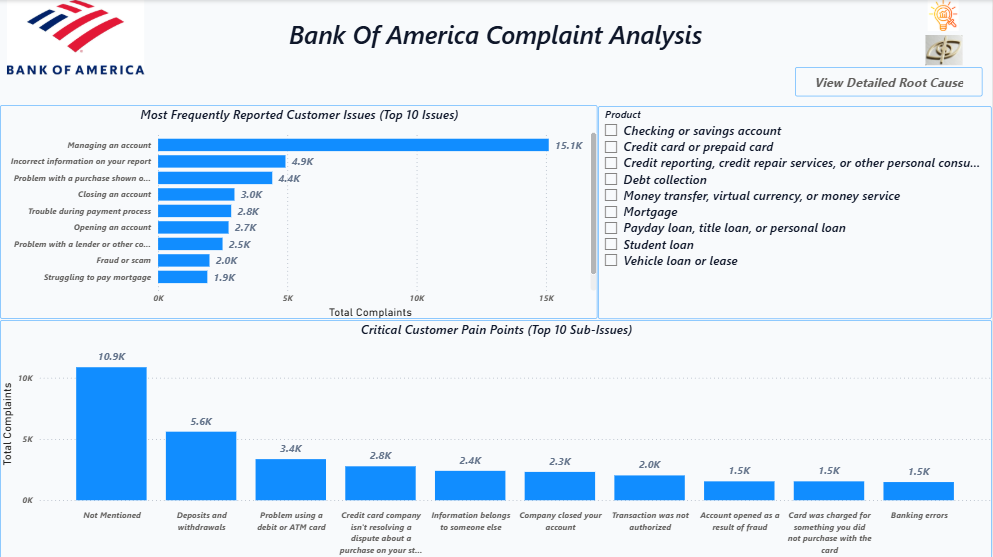

Layout of this report page (visuals, bound fields, positions):
{"tool":"powerbi","page":{"name":"Product & Root Cause Analysis","canvas":[1280,720],"ordinal":1},"visuals":[{"type":"textbox","box":[154.2,16.5,971.7,56.4],"z":4000},{"type":"image","box":[0,0,195.6,96.4],"z":5000},{"type":"clusteredBarChart","title":"Most Frequently Reported Customer Issues (Top 10 Issues)","fields":{"Category":["Complaint Data.Issue"],"Y":["Dax Measures.Total Complaints"]},"box":[0,136.1,771,276.4],"z":6000},{"type":"clusteredColumnChart","title":"Critical Customer Pain Points (Top 10 Sub-Issues)","fields":{"Category":["Complaint Data.Sub-issue"],"Y":["Dax Measures.Total Complaints"]},"box":[0,412.4,1279.8,307.6],"z":7000},{"type":"slicer","fields":{"Values":["Complaint Data.Product"]},"box":[771.7,136.7,508.3,275],"z":9000},{"type":"actionButton","box":[1026.1,86.5,242.4,38.3],"z":10000},{"type":"image","box":[1159.4,0,114.6,40.2],"z":14000},{"type":"image","box":[1156.5,44.7,123.5,38.7],"z":15000}]}

Visuals, with their boxes in screenshot pixels (x1, y1, x2, y2), scaled from the page's 1280x720 canvas onto the 993x557 screenshot:
textbox: {"x1": 120, "y1": 13, "x2": 873, "y2": 56}
image: {"x1": 0, "y1": 0, "x2": 152, "y2": 75}
"Most Frequently Reported Customer Issues (Top 10 Issues)" clusteredBarChart: {"x1": 0, "y1": 105, "x2": 598, "y2": 319}
"Critical Customer Pain Points (Top 10 Sub-Issues)" clusteredColumnChart: {"x1": 0, "y1": 319, "x2": 992, "y2": 556}
slicer - Complaint Data.Product: {"x1": 599, "y1": 106, "x2": 992, "y2": 318}
actionButton: {"x1": 796, "y1": 67, "x2": 984, "y2": 97}
image: {"x1": 899, "y1": 0, "x2": 988, "y2": 31}
image: {"x1": 897, "y1": 35, "x2": 992, "y2": 65}
